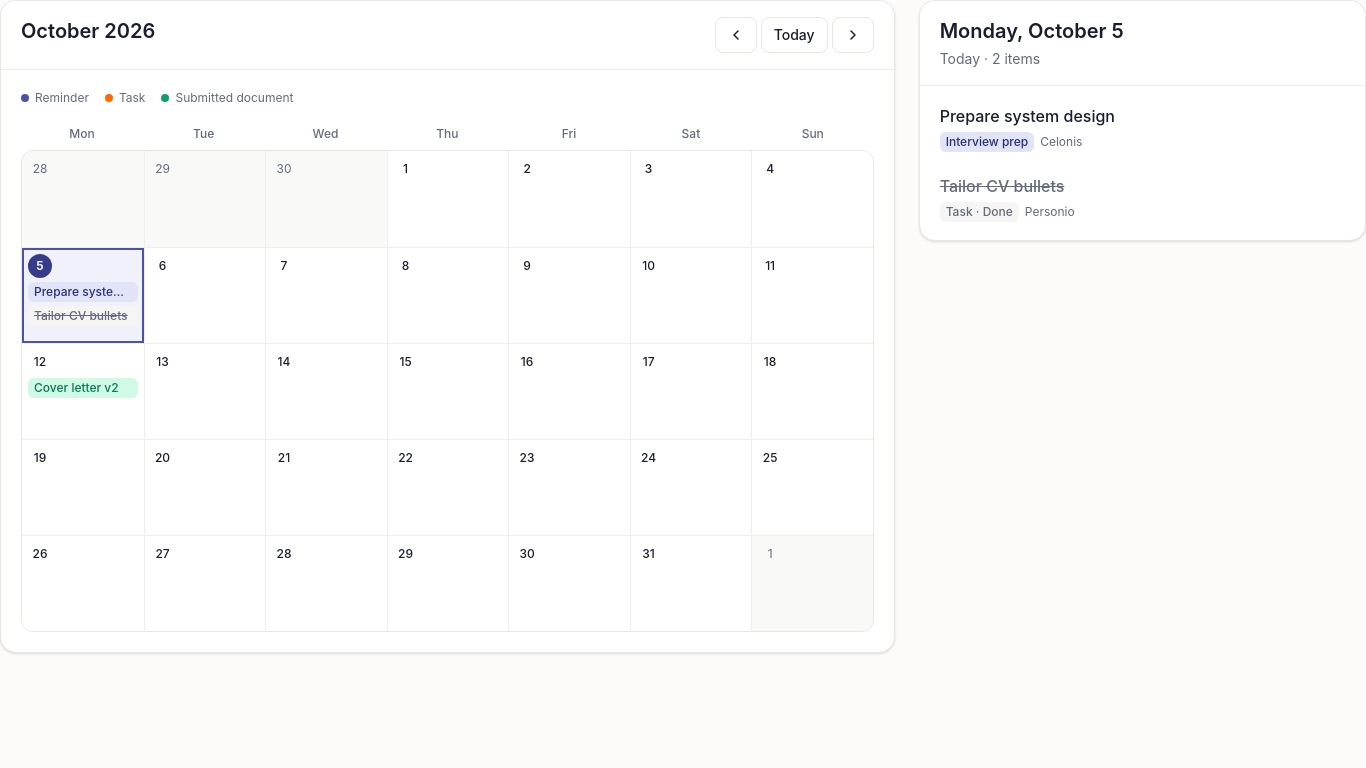
Test: CalendarPage › keeps the month buttons mounted, and focused, while the next month loads
The image size is (1366, 768).
Click the button named "Next month". click: (853, 35)
box: [832,17,874,53]
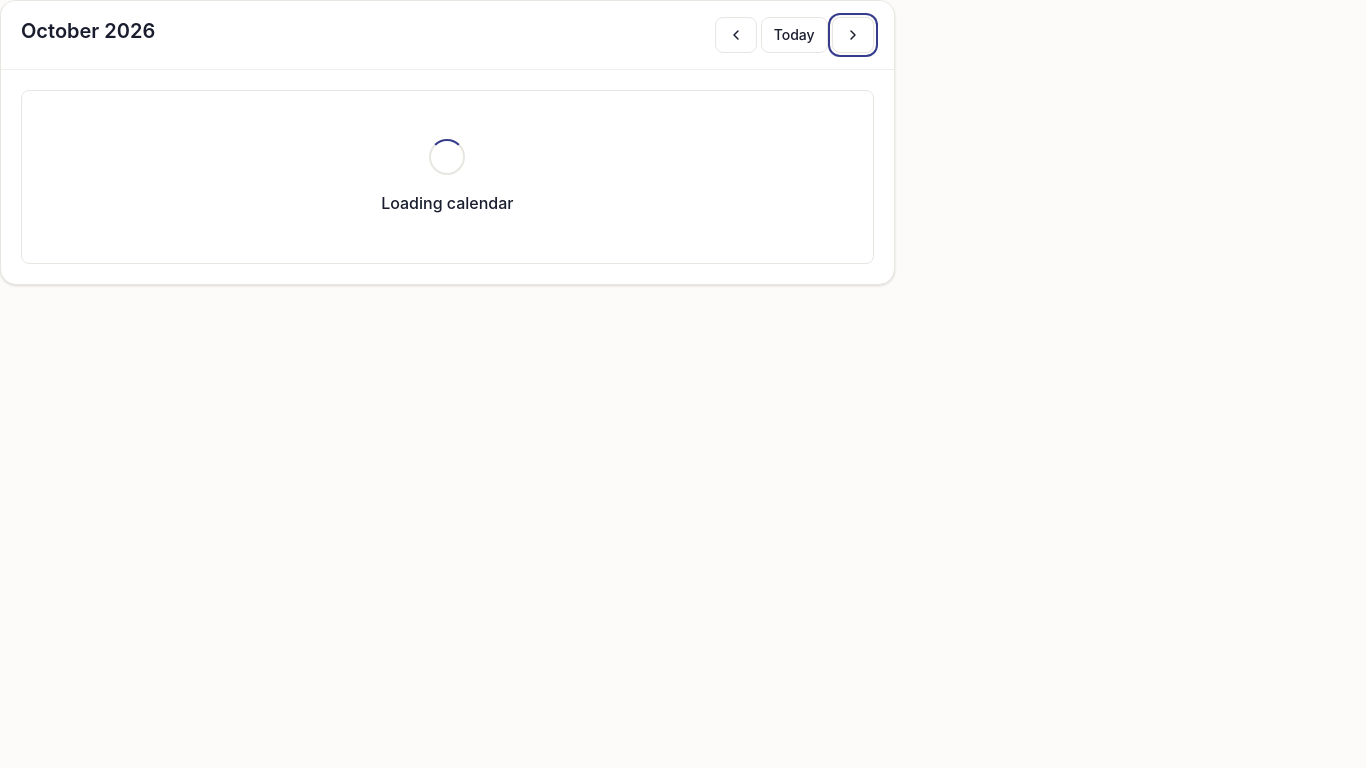
Expected: the message reads "Loading calendar", [381,193,514,213]
